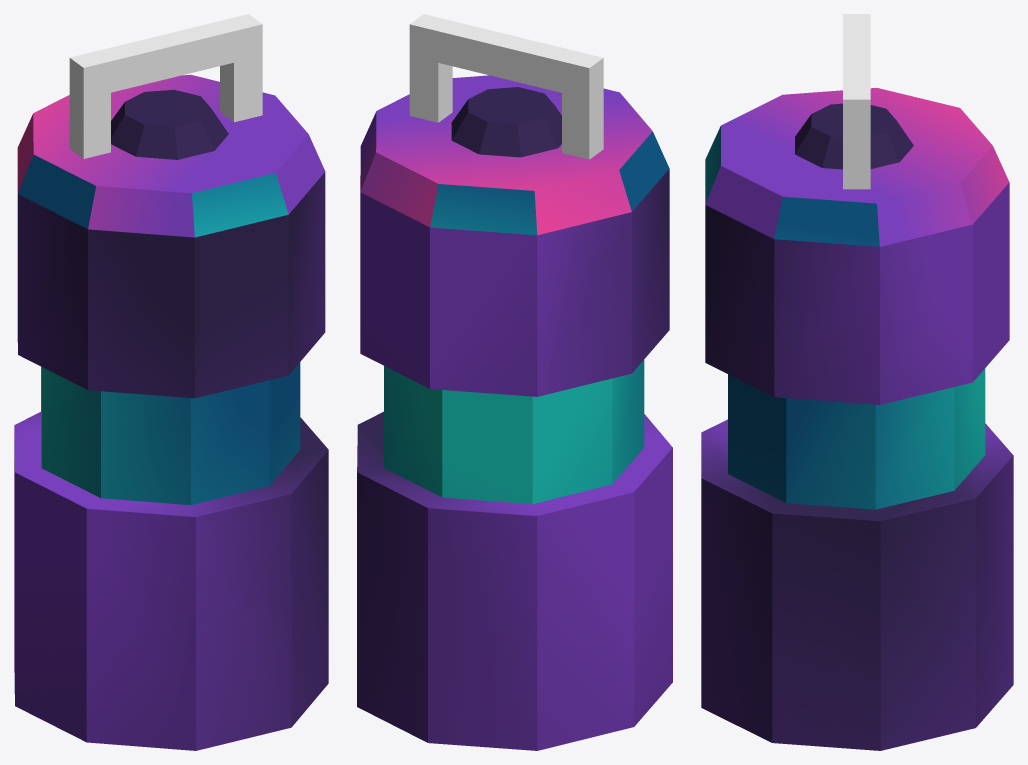
File: SM_BottleBig.fbx
3 renders of one model, left to right at view 1: azimuth 30°, elevation 25°; view 2: azimuth 150°, elevation 25°; view 3: azimuth 270°, elevation 25°, orthographic. The views are drawn at different scales.
Visible parts, largest first — view 1: BottleBig, Handle.006; view 2: BottleBig, Handle.006; view 3: BottleBig, Handle.006.
Part boxes in pixels (<box>): BottleBig: <box>14,74,328,750</box>; Handle.006: <box>69,14,262,158</box>; BottleBig: <box>357,75,672,750</box>; Handle.006: <box>409,14,603,159</box>; BottleBig: <box>701,87,1013,750</box>; Handle.006: <box>843,14,870,189</box>.
Bounding box in the file's own units: 17.62 × 17.62 × 39.18.
